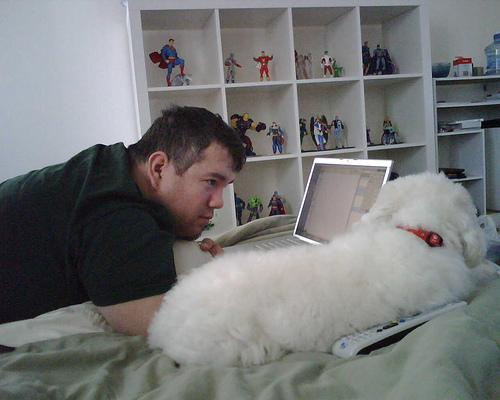person: (1, 106, 249, 339)
